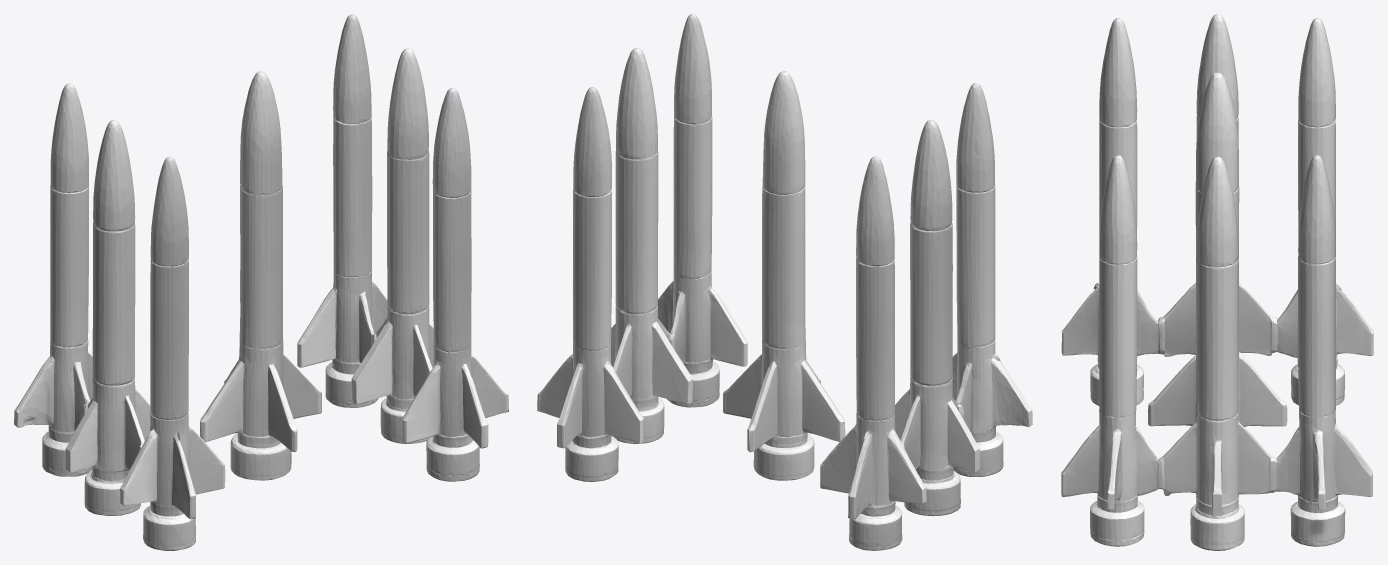
The model's file is missiel.glb.
3 renders of one model, left to right at view 1: azimuth 30°, elevation 25°; view 2: azimuth 150°, elevation 25°; view 3: azimuth 270°, elevation 25°, orthographic.
Parts seen in each view (by area): view 1: world; view 2: world; view 3: world.
Part boxes in pixels (box(x1,y1,x2,y2)): world: box(14, 14, 508, 550); world: box(537, 14, 1032, 550); world: box(1061, 14, 1373, 550).
Bounding box in the file's own units: 1 × 0.9817 × 0.7064.
1 material, 1 textured.
